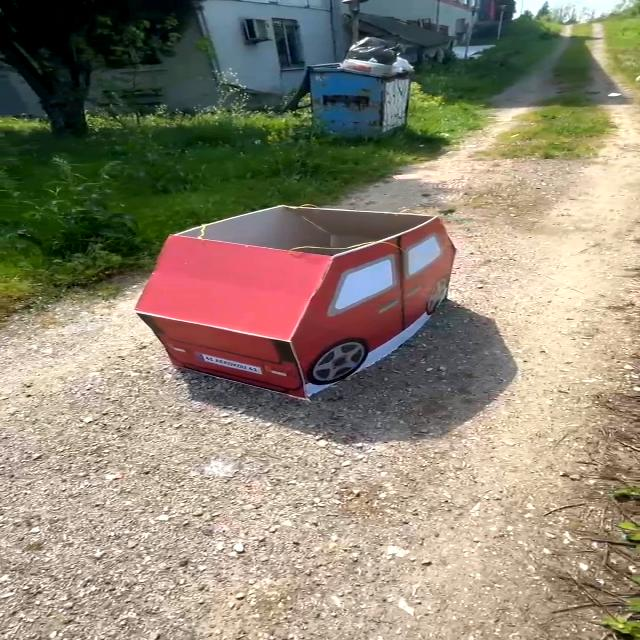red_car: (101, 176, 471, 415)
